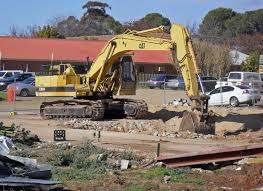excavator: (39, 27, 210, 128)
